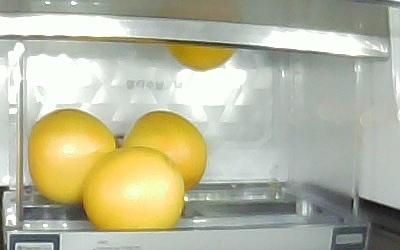grapefruit: (28, 109, 116, 206), (83, 147, 184, 229), (120, 110, 207, 191), (166, 43, 237, 71)
